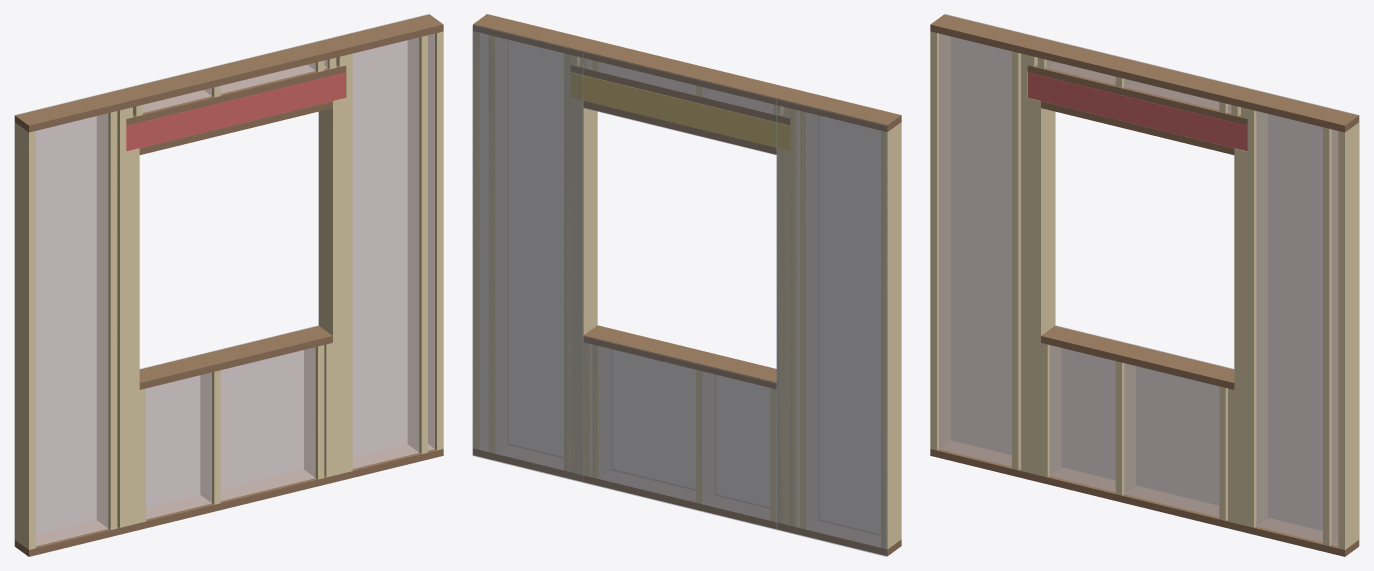
3 renders of one model, left to right at view 1: azimuth 30°, elevation 25°; view 2: azimuth 150°, elevation 25°; view 3: azimuth 330°, elevation 25°, orthographic.
Visible parts, largest first — view 1: EX18 GF; view 2: EX18 GF; view 3: EX18 GF.
Part boxes in pixels (x1,y1,x2,y2): EX18 GF: (14,14,443,556); EX18 GF: (472,14,901,556); EX18 GF: (930,14,1359,556).
Bounding box in the file's own units: 2.4 × 2.39 × 0.149.
